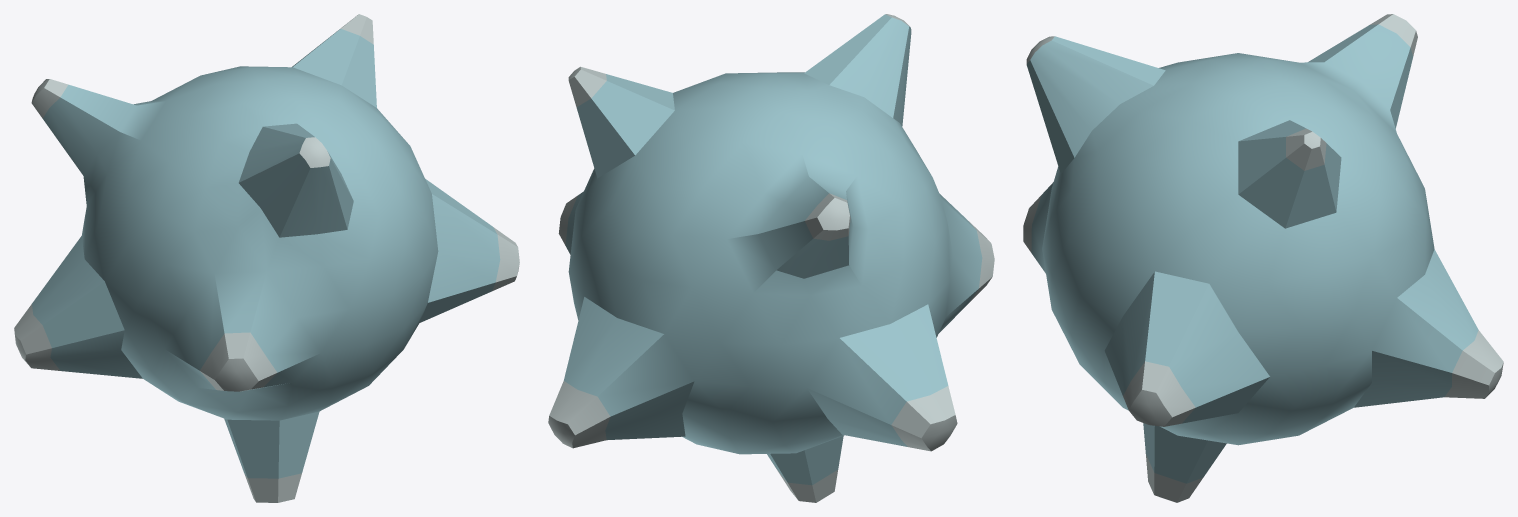
The model's file is Planet 4.glb.
3 renders of one model, left to right at view 1: azimuth 30°, elevation 25°; view 2: azimuth 150°, elevation 25°; view 3: azimuth 270°, elevation 25°, orthographic. The views are drawn at different scales.
Visible parts, largest first — view 1: Planet_4; view 2: Planet_4; view 3: Planet_4.
Part boxes in pixels (x1,y1,x2,y2): Planet_4: [14, 14, 519, 502]; Planet_4: [548, 14, 994, 502]; Planet_4: [1023, 14, 1503, 502].
Size of the model in its own units: 4.52 by 4.12 by 4.
Materials: 1 (1 with a texture image).
